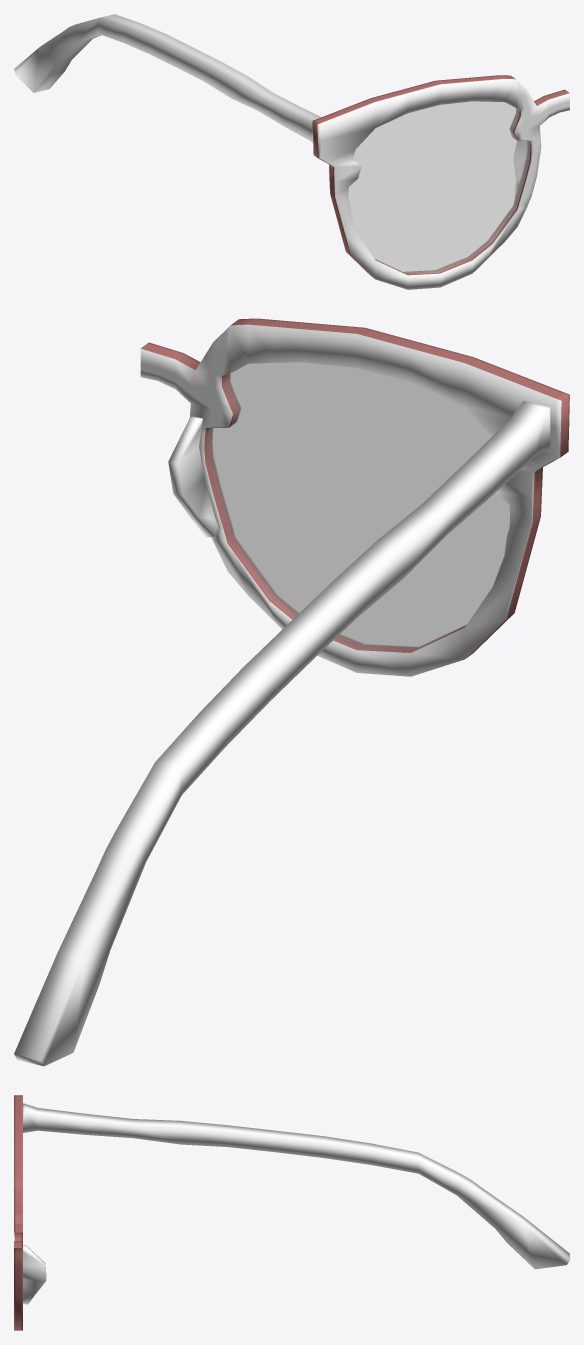
Rendered from amir-001.glb.
3 views of the same model, one above another, from view 1: azimuth 30°, elevation 25°; view 2: azimuth 150°, elevation 25°; view 3: azimuth 270°, elevation 25° (orthographic). The views are drawn at different scales.
Parts seen in each view (by area): view 1: 367679C2-EF91-4D75-80A8-C280DCC0DE83.001, 367679C2-EF91-4D75-80A8-C280DCC0DE83, B5317F23-BD3E-4FFE-9AC8-65AF16AC1C68.001, B5317F23-BD3E-4FFE-9AC8-65AF16AC1C68; view 2: 367679C2-EF91-4D75-80A8-C280DCC0DE83.001, B5317F23-BD3E-4FFE-9AC8-65AF16AC1C68.001, 367679C2-EF91-4D75-80A8-C280DCC0DE83, B5317F23-BD3E-4FFE-9AC8-65AF16AC1C68; view 3: B5317F23-BD3E-4FFE-9AC8-65AF16AC1C68.001, 367679C2-EF91-4D75-80A8-C280DCC0DE83, B5317F23-BD3E-4FFE-9AC8-65AF16AC1C68.
Boxes of the visible parts, x1,y1,x2,y2 form: 367679C2-EF91-4D75-80A8-C280DCC0DE83.001: [348, 101, 530, 274]; 367679C2-EF91-4D75-80A8-C280DCC0DE83: [312, 75, 569, 289]; B5317F23-BD3E-4FFE-9AC8-65AF16AC1C68.001: [14, 14, 321, 143]; B5317F23-BD3E-4FFE-9AC8-65AF16AC1C68: [513, 141, 526, 197]; 367679C2-EF91-4D75-80A8-C280DCC0DE83.001: [207, 362, 509, 651]; B5317F23-BD3E-4FFE-9AC8-65AF16AC1C68.001: [14, 401, 550, 1066]; 367679C2-EF91-4D75-80A8-C280DCC0DE83: [140, 318, 569, 676]; B5317F23-BD3E-4FFE-9AC8-65AF16AC1C68: [168, 416, 219, 537]; B5317F23-BD3E-4FFE-9AC8-65AF16AC1C68.001: [23, 1103, 569, 1269]; 367679C2-EF91-4D75-80A8-C280DCC0DE83: [14, 1095, 22, 1330]; B5317F23-BD3E-4FFE-9AC8-65AF16AC1C68: [23, 1245, 46, 1304].
Bounding box in the file's own units: 0.5141 × 0.3956 × 1.1.
